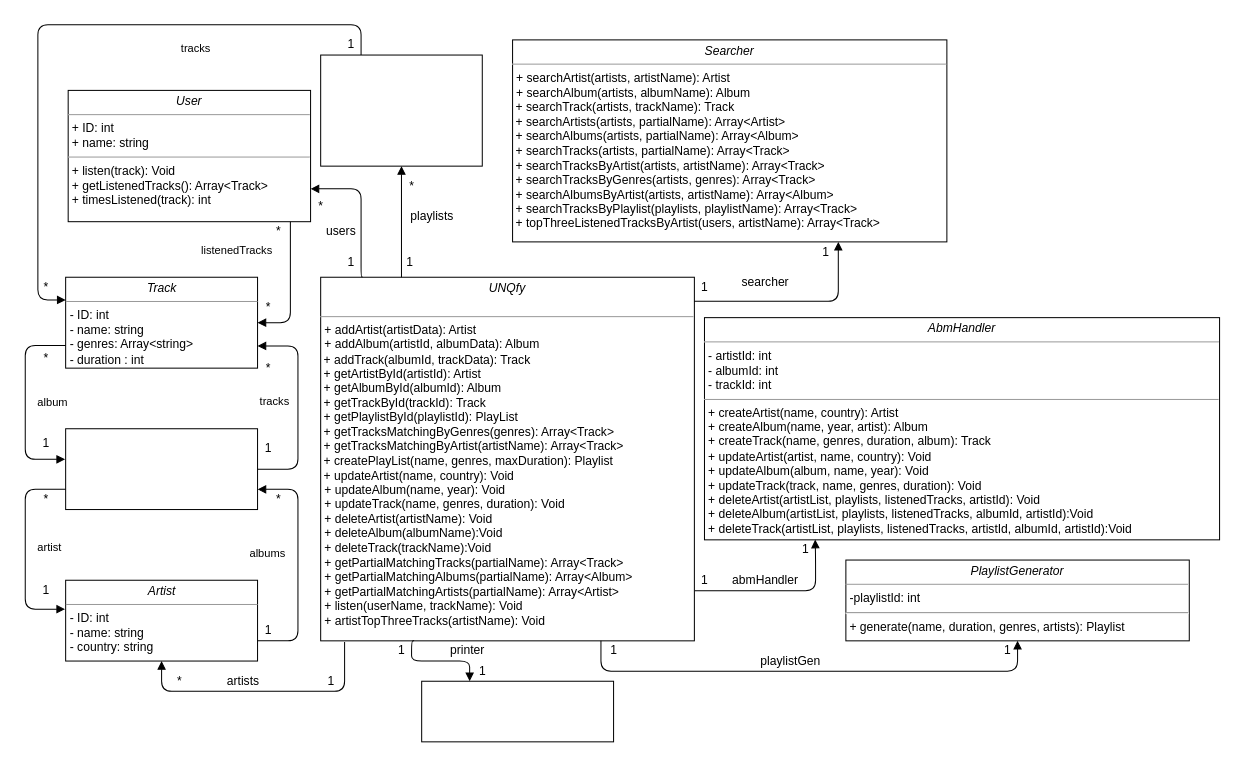
Image size: 1237x760. Some labels were removed from this diagram. Each missing label, with the centre of its shape:
Album - ID: int - name: string - year: string: point (161, 469)
Playlist - id: int - name: string - duration: int + hasTrack(track): bool: point (401, 110)
Printer + print(header, array) : Void: point (517, 711)
